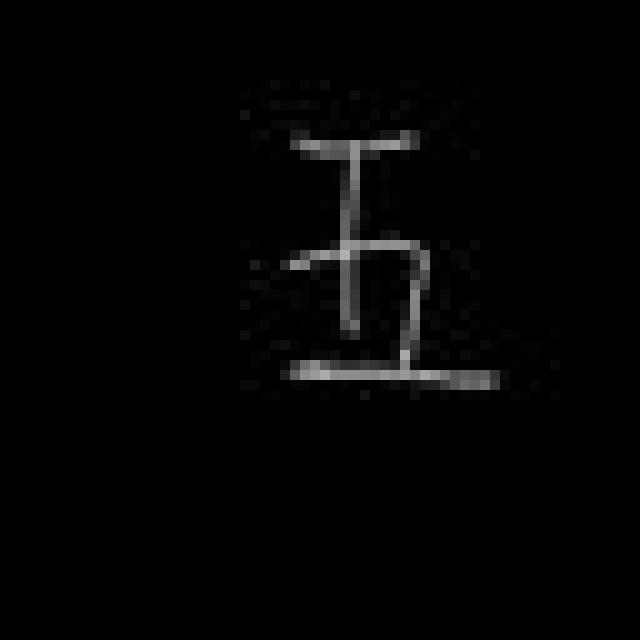5 -five-: (280, 110, 506, 406)
